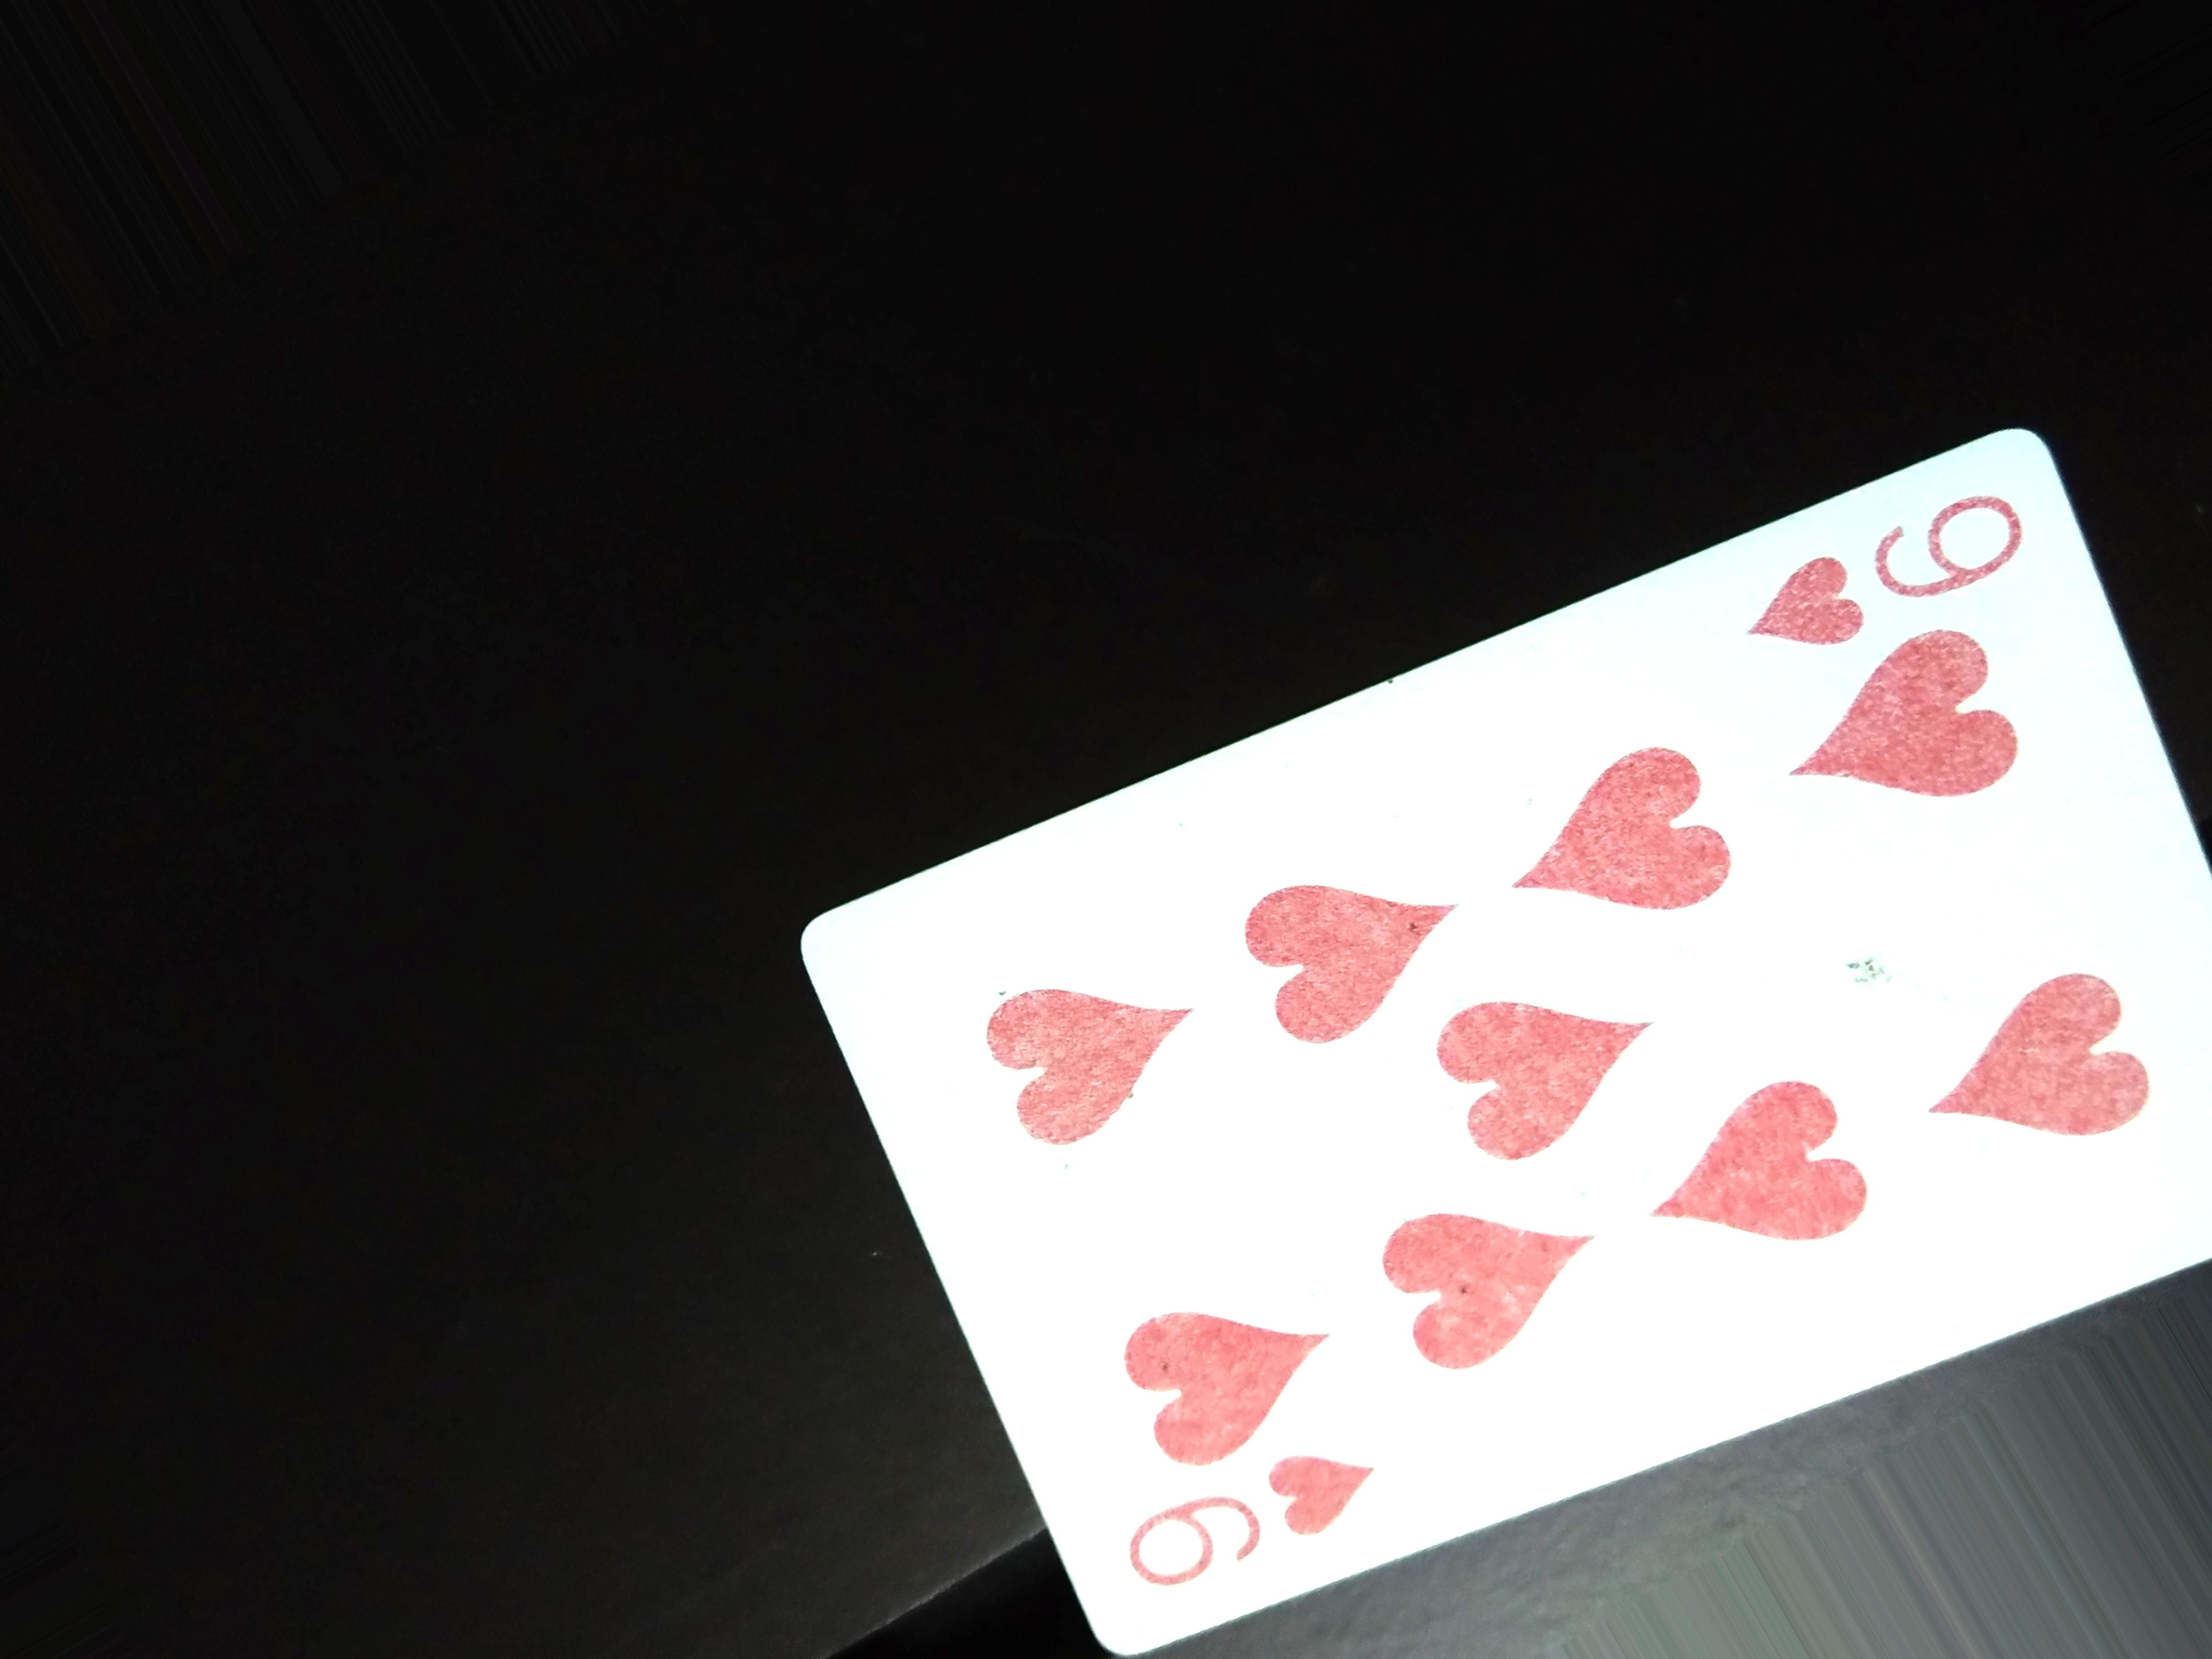9H: (1719, 472, 2052, 667)
